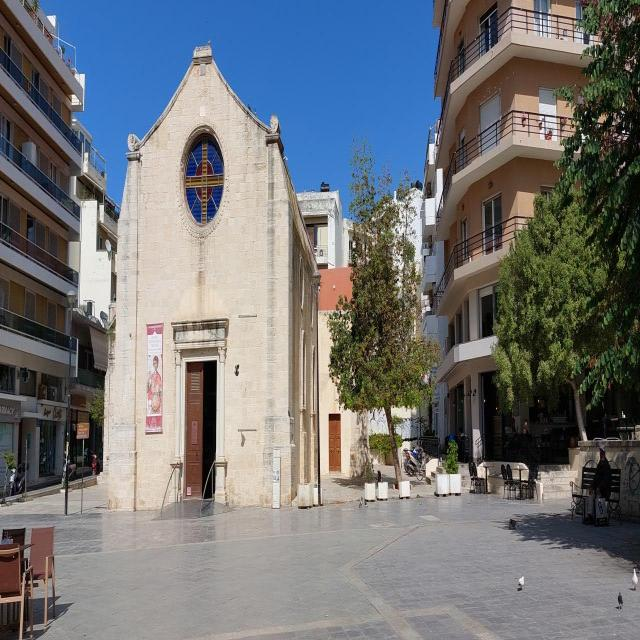Agia Aikaterini: (103, 40, 323, 513)
